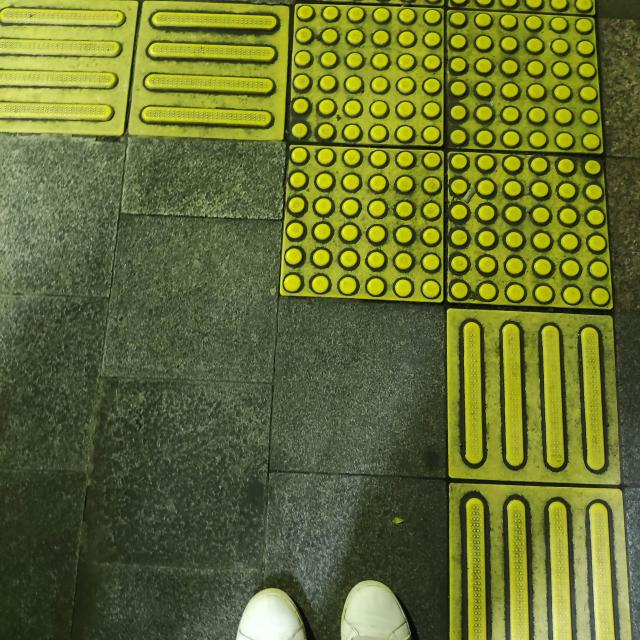kiri: (11, 0, 640, 425)
